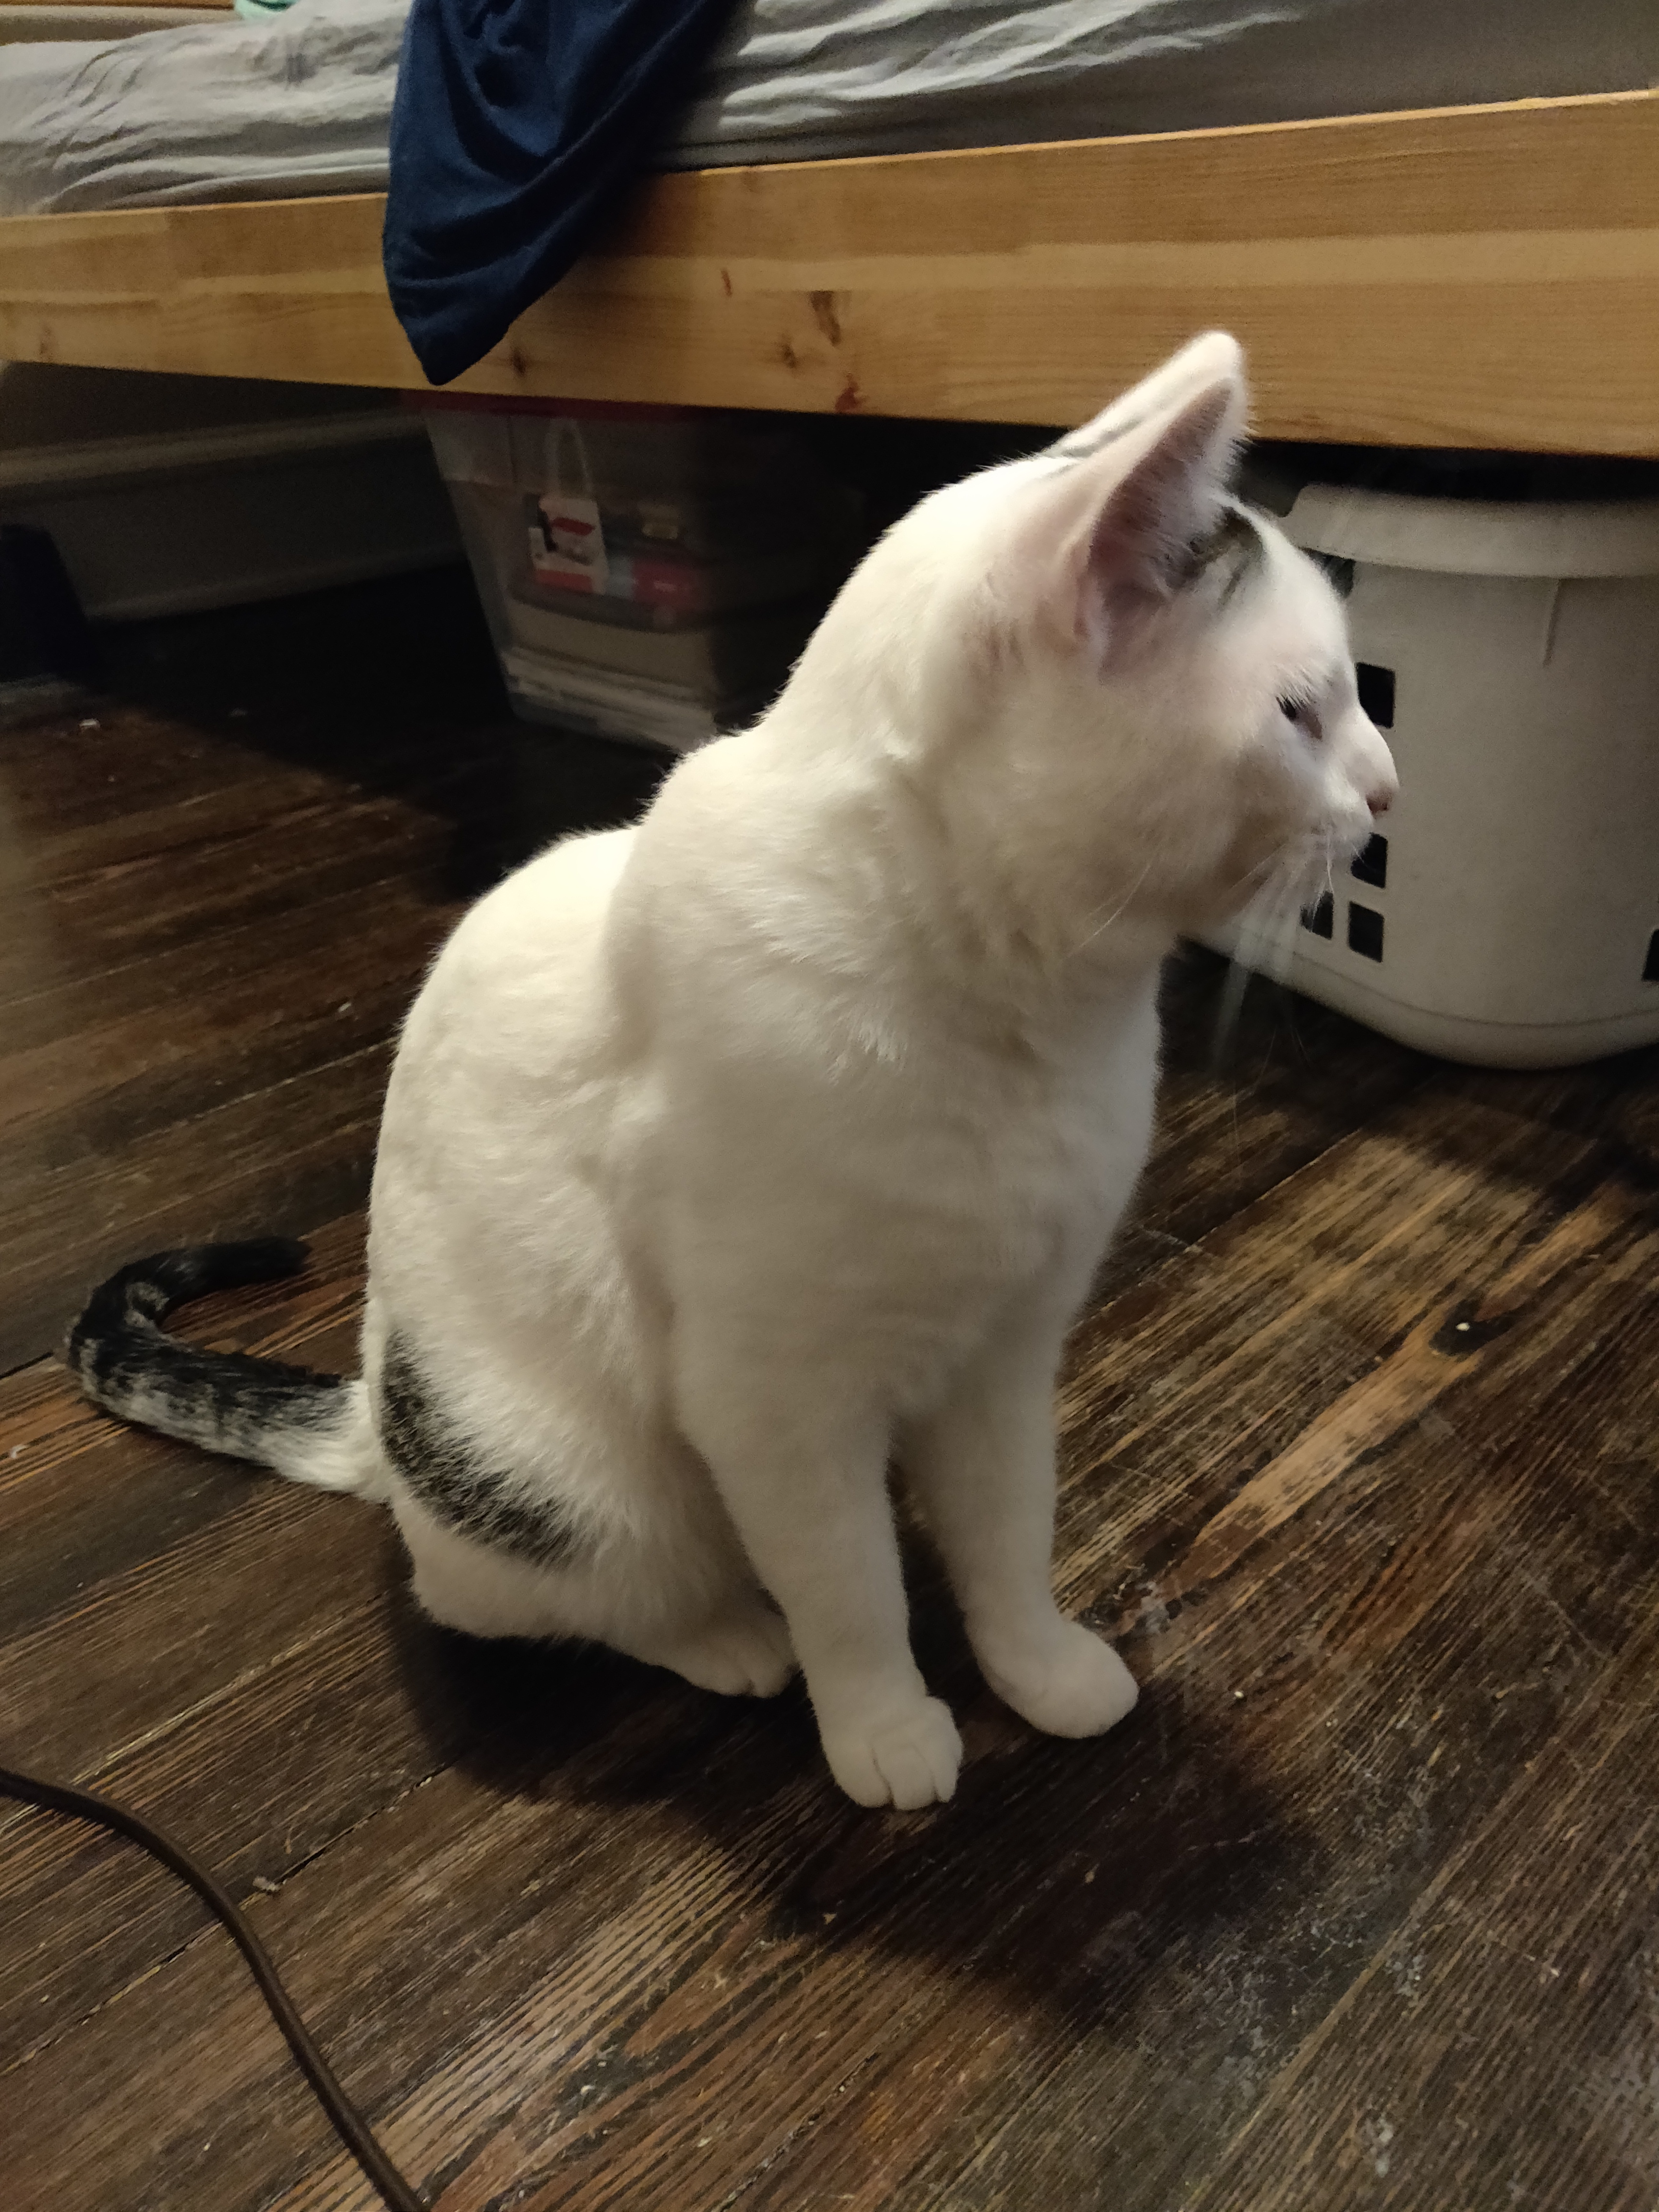cat: (72, 320, 1411, 1805)
